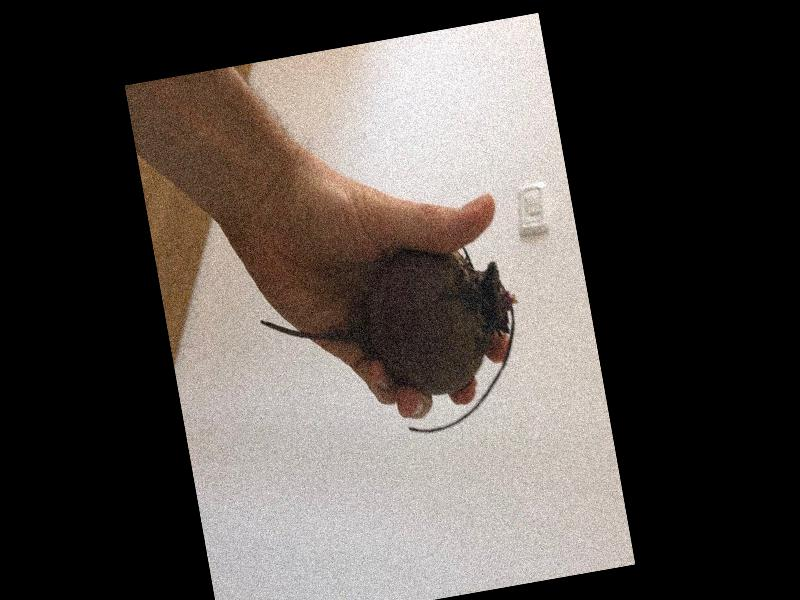Beet: (254, 237, 536, 460)
